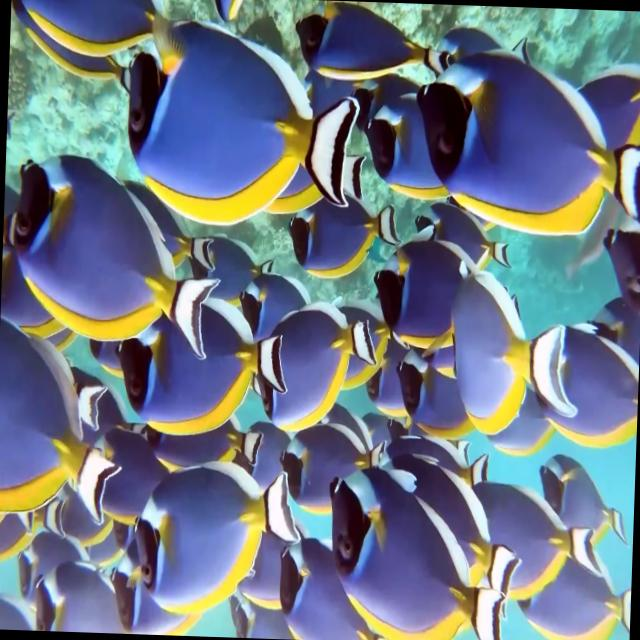fish: (120, 15, 362, 228), (413, 38, 640, 234), (10, 156, 214, 360), (321, 463, 505, 640), (130, 460, 300, 618), (0, 327, 121, 522), (444, 274, 580, 441), (386, 458, 524, 601), (252, 300, 378, 434), (469, 483, 601, 608), (511, 319, 640, 446), (360, 92, 460, 202), (278, 425, 386, 514), (288, 200, 399, 278)
